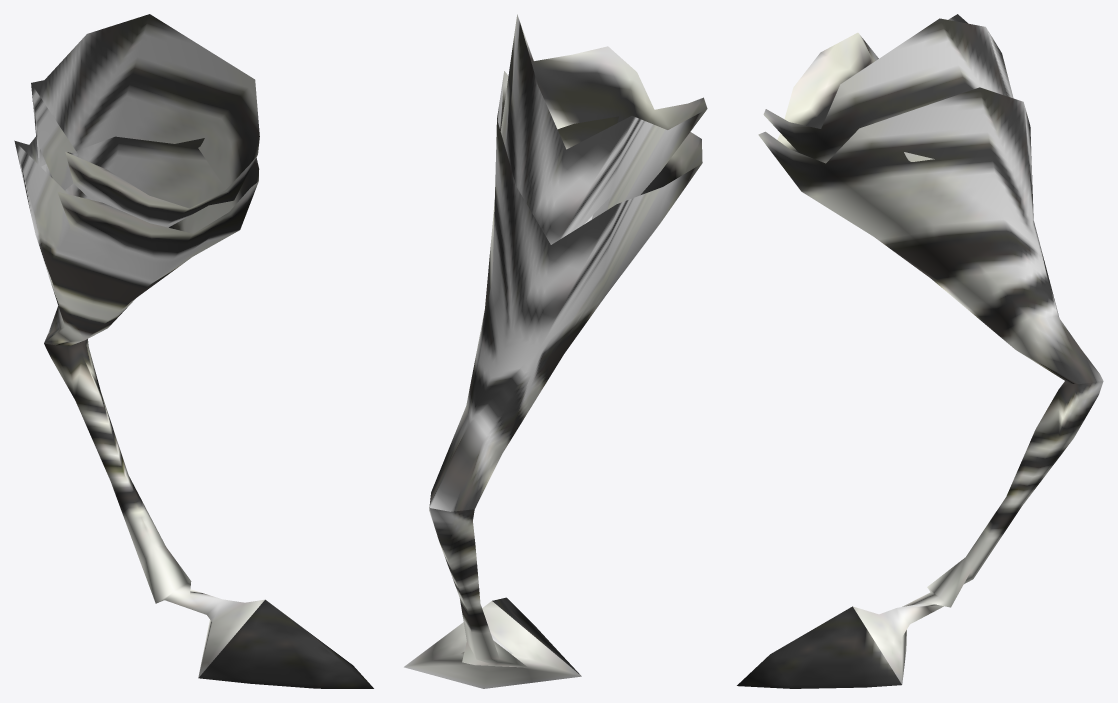
Rendered from cebra_pata_izq_atras.obj.
The picture shows the model from 3 angles, left to right: view 1: azimuth 30°, elevation 25°; view 2: azimuth 150°, elevation 25°; view 3: azimuth 270°, elevation 25°; orthographic projection. The views are drawn at different scales.
Parts seen in each view (by area): view 1: cebra_pata_izq_atras; view 2: cebra_pata_izq_atras; view 3: cebra_pata_izq_atras.
Boxes of the visible parts, <box> form: cebra_pata_izq_atras: <box>14,14,373,688</box>; cebra_pata_izq_atras: <box>404,14,707,688</box>; cebra_pata_izq_atras: <box>737,14,1103,688</box>.
Size of the model in its own units: 11.69 by 27.4 by 14.94.
Materials: 1 (1 with a texture image).
